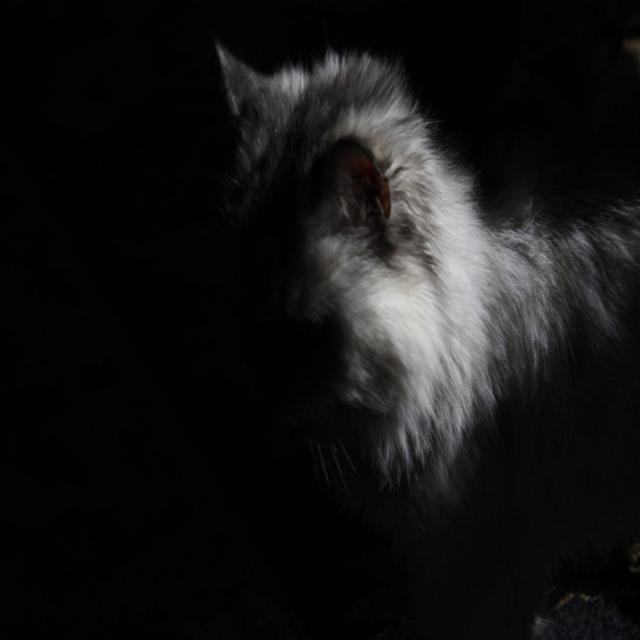Cat: (169, 29, 640, 640)
